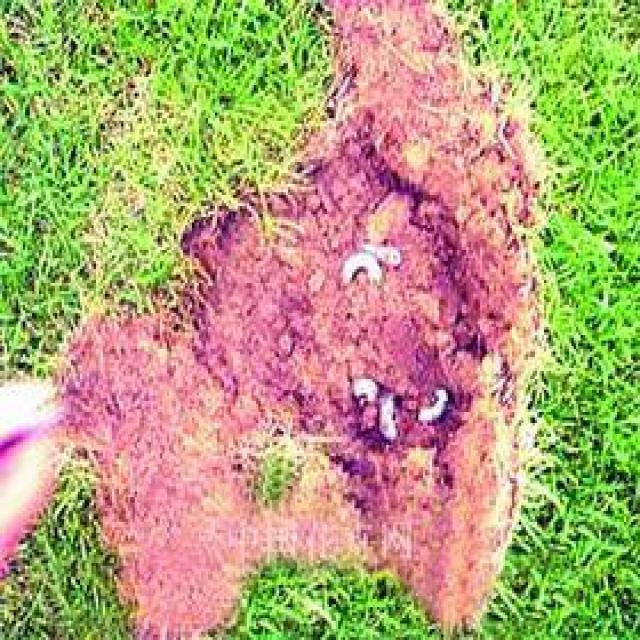Grub-Adult-: (411, 386, 460, 436), (331, 248, 386, 292), (376, 394, 402, 450)
